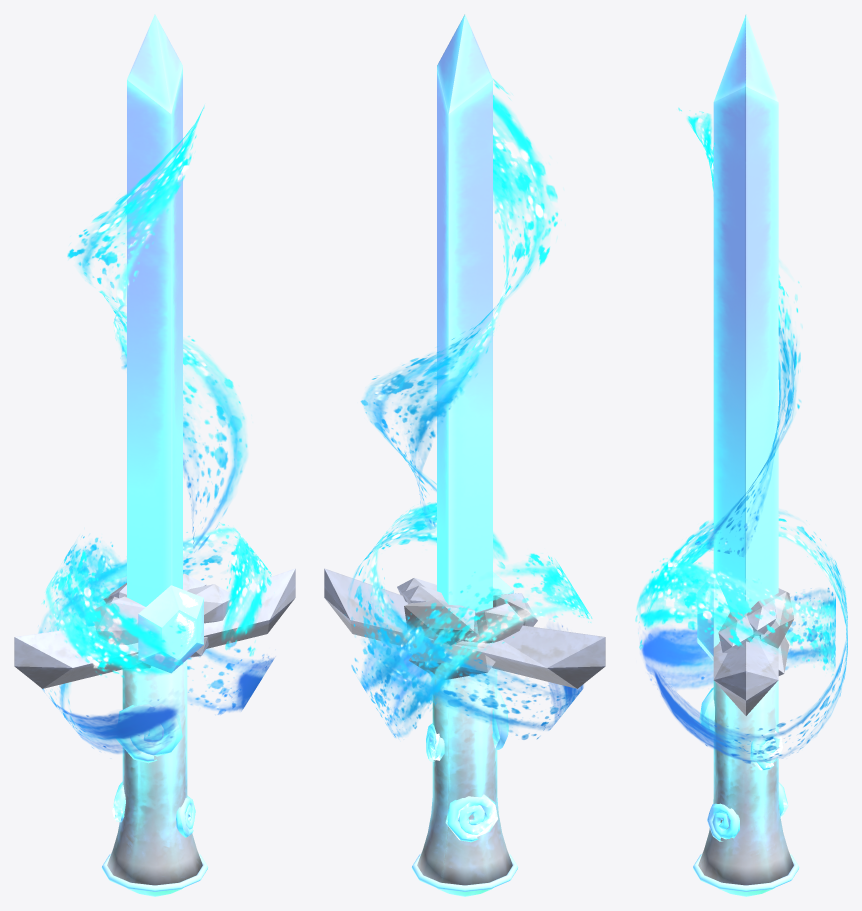
The model's file is crystal_sword_of_the_ocean.glb.
The picture shows the model from 3 angles, left to right: view 1: azimuth 30°, elevation 25°; view 2: azimuth 150°, elevation 25°; view 3: azimuth 270°, elevation 25°; orthographic projection.
Parts seen in each view (by area): view 1: Blade_1, Water Blade_19, Handle_5, Wave Guard.003_31, Wave Guard.004_32, Guard_4, Diamond_3, Seashell.009_15, Icosphere.005_27, Icosphere.004_26, Torus_18, Seashell.008_14; view 2: Blade_1, Water Blade_19, Wave Guard.003_31, Handle_5, Wave Guard.004_32, Guard_4, Icosphere.008_30, Seashell.011_17, Icosphere.003_25, Icosphere.007_29, Torus_18, Seashell.009_15 (+1 smaller); view 3: Blade_1, Wave Guard.004_32, Handle_5, Wave Guard.003_31, Water Blade_19, Guard_4, Diamond_3, Icosphere.008_30, Seashell.010_16, Seashell.008_14, Icosphere.004_26, Torus_18 (+2 smaller).
Boxes of the visible parts, box(x1,y1,x2,y2) form: Blade_1: box(127, 14, 182, 606); Water Blade_19: box(67, 105, 247, 552); Handle_5: box(107, 659, 202, 885); Wave Guard.003_31: box(42, 535, 274, 714); Wave Guard.004_32: box(38, 522, 271, 753); Guard_4: box(14, 568, 295, 688); Diamond_3: box(138, 585, 203, 673); Seashell.009_15: box(116, 703, 182, 763); Icosphere.005_27: box(94, 596, 145, 644); Icosphere.004_26: box(187, 584, 234, 623); Torus_18: box(101, 854, 208, 891); Seashell.008_14: box(176, 795, 195, 837); Blade_1: box(437, 14, 492, 612); Water Blade_19: box(360, 79, 558, 529); Wave Guard.003_31: box(351, 553, 592, 737); Handle_5: box(417, 667, 512, 885); Wave Guard.004_32: box(349, 502, 583, 739); Guard_4: box(324, 568, 605, 688); Icosphere.008_30: box(404, 599, 478, 645); Seashell.011_17: box(445, 794, 497, 842); Icosphere.003_25: box(408, 640, 495, 679); Icosphere.007_29: box(463, 603, 523, 643); Torus_18: box(411, 854, 518, 891); Seashell.009_15: box(492, 688, 508, 749); Blade_1: box(713, 14, 778, 613); Wave Guard.004_32: box(635, 557, 835, 690); Handle_5: box(698, 680, 793, 885); Wave Guard.003_31: box(647, 511, 847, 763); Water Blade_19: box(678, 108, 802, 556); Guard_4: box(713, 636, 778, 715); Diamond_3: box(697, 574, 729, 660); Icosphere.008_30: box(759, 588, 794, 648); Seashell.010_16: box(750, 731, 782, 770); Seashell.008_14: box(707, 803, 739, 841); Icosphere.004_26: box(718, 612, 754, 653); Torus_18: box(693, 854, 799, 891).
Bounding box in the file's own units: 10 × 30 × 6.59.
2 materials, 1 textured.
